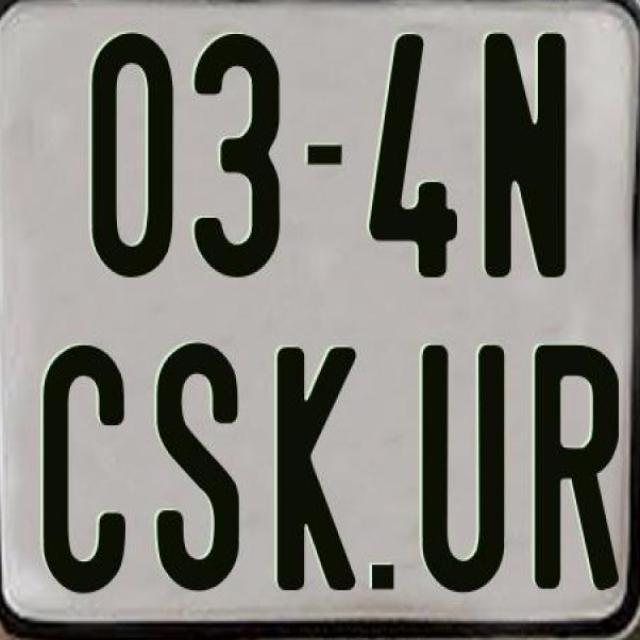license-plate: (20, 17, 626, 638)
